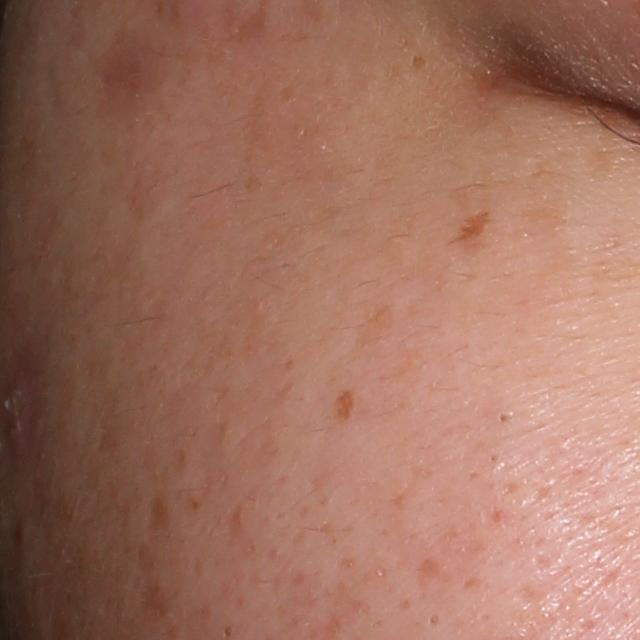comedo: (492, 413, 510, 427), (425, 615, 441, 630)
melasma: (350, 299, 399, 352), (447, 208, 493, 246), (141, 490, 174, 536), (331, 386, 356, 420), (404, 48, 433, 72)
